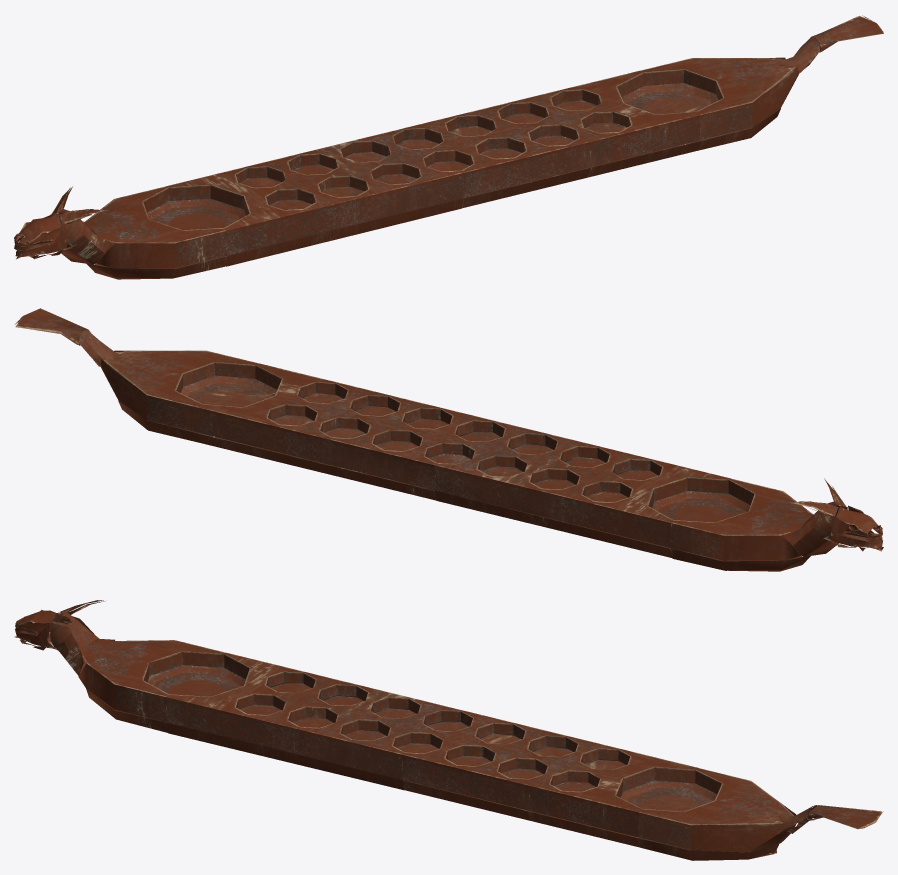
File: Dragon Congklak.fbx
The picture shows the model from 3 angles, top to bottom: view 1: azimuth 30°, elevation 25°; view 2: azimuth 150°, elevation 25°; view 3: azimuth 330°, elevation 25°; orthographic projection.
Parts seen in each view (by area): view 1: Dragon Congklak; view 2: Dragon Congklak; view 3: Dragon Congklak.
Boxes of the visible parts, box(x1,y1,x2,y2) form: Dragon Congklak: box(14, 15, 883, 279); Dragon Congklak: box(14, 308, 883, 571); Dragon Congklak: box(14, 600, 883, 860).
Size of the model in its own units: 155 by 13.42 by 19.21.
1 material, 1 textured.
